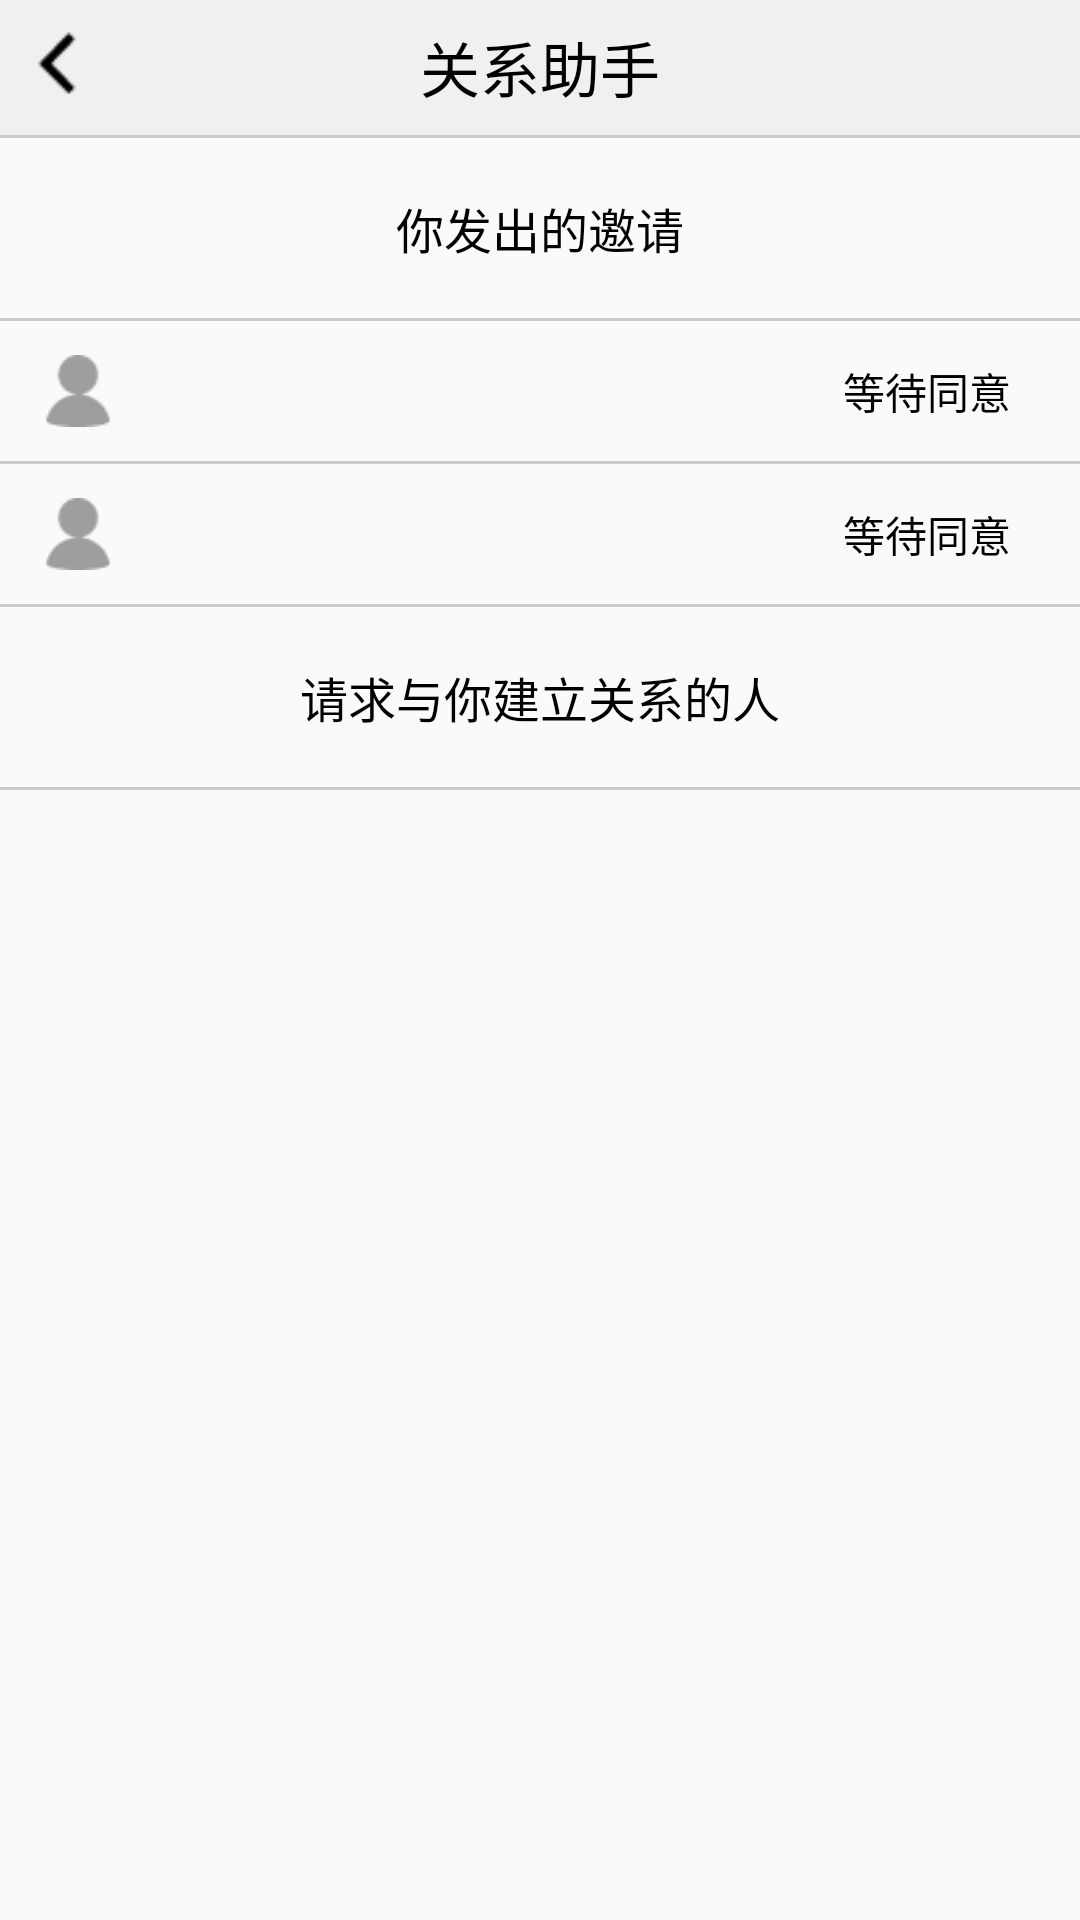

Icons on this 1080×1920 Android screen, each with the point to tap as (x,y):
back: (57,63)
denglu: (78,391), (78,534)
